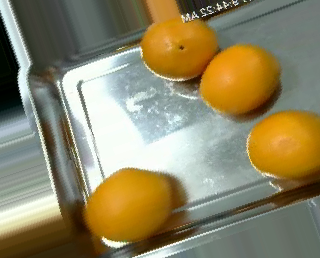Orange: (82, 167, 175, 244), (200, 43, 284, 116), (139, 17, 218, 80), (247, 111, 320, 179)
